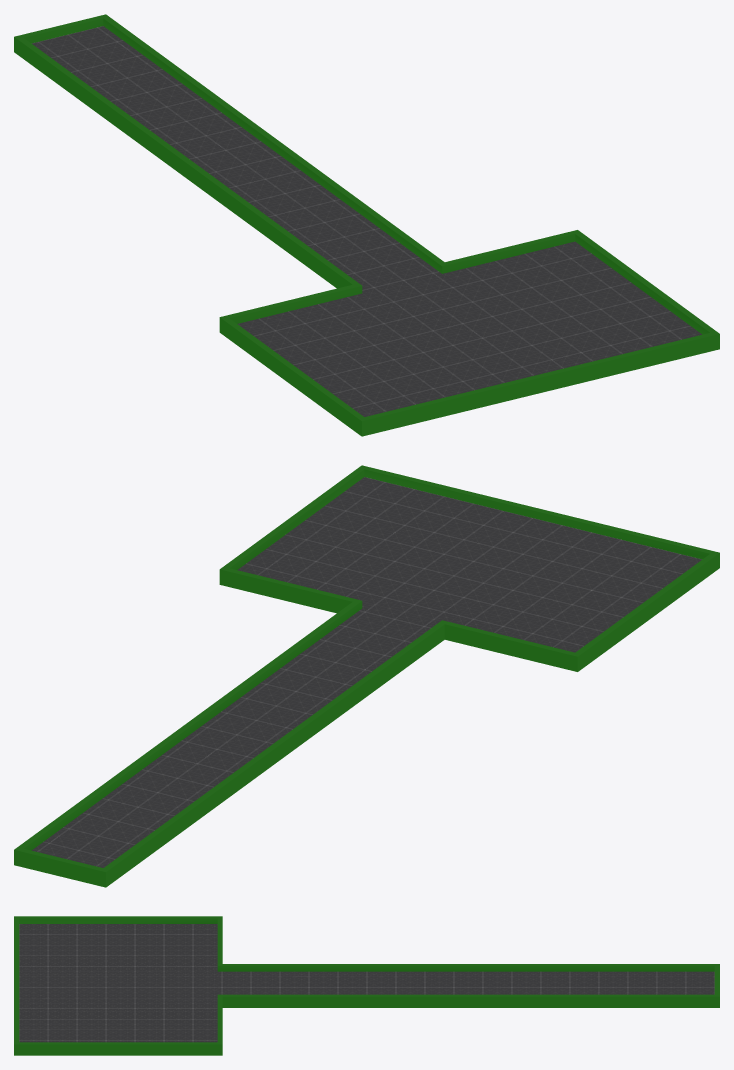
Rendered from track1.glb.
The picture shows the model from 3 angles, top to bottom: view 1: azimuth 30°, elevation 25°; view 2: azimuth 150°, elevation 25°; view 3: azimuth 270°, elevation 25°; orthographic projection. The views are drawn at different scales.
Parts seen in each view (by area): view 1: track-col; view 2: track-col; view 3: track-col.
Part boxes in pixels (x1=…): track-col: x1=14, y1=14, x2=719, y2=436; track-col: x1=14, y1=465, x2=719, y2=887; track-col: x1=14, y1=916, x2=719, y2=1055.
Bounding box in the file's own units: 48.6 × 2 × 113.
Materials: 2 (1 with a texture image).
